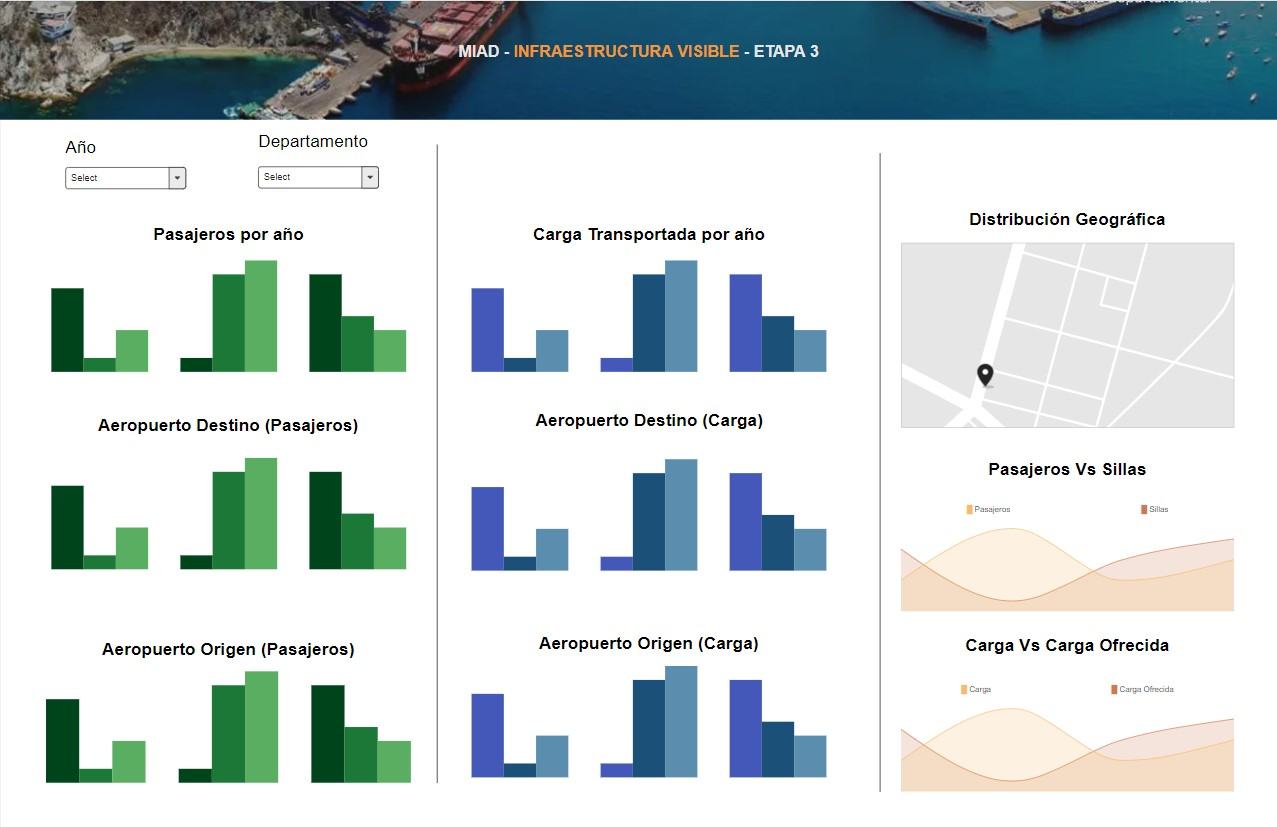

What the dashboard file says about the page in this screenshot:
{"tool":"powerbi","page":{"name":"Vuelos","canvas":[1280,720],"ordinal":0},"visuals":[{"type":"columnChart","title":"Pasajeros anuales","fields":{"Category":["fecha.year"],"Y":["Sum(fact_vuelo.pasajeros)"]},"box":[9.6,0,336.5,239],"z":0},{"type":"columnChart","title":"Carga anual transportada","fields":{"Category":["fecha.year"],"Y":["Sum(fact_vuelo.carga_bordo)"]},"box":[377.7,0,336.5,239],"z":1000},{"type":"columnChart","title":"Pasajeros anuales por destino","fields":{"Category":["fecha.year"],"Y":["Sum(fact_vuelo.pasajeros)"],"Series":["fact_vuelo.aeropuerto_destino_key"]},"box":[1.4,239,336.5,232.1],"z":2000},{"type":"columnChart","title":"Carga anual transportada por destino","fields":{"Category":["fecha.year"],"Y":["Sum(fact_vuelo.carga_bordo)"],"Series":["fact_vuelo.aeropuerto_destino_key"]},"box":[377.7,239,336.5,232.1],"z":3000},{"type":"columnChart","title":"Pasajeros anuales por origen","fields":{"Category":["fecha.year"],"Y":["Sum(fact_vuelo.pasajeros)"],"Series":["fact_vuelo.aeropuerto_origen_key"]},"box":[1.4,471.1,336.5,248.6],"z":4000},{"type":"columnChart","title":"Carga anual transportada por origen","fields":{"Category":["fecha.year"],"Series":["fact_vuelo.aeropuerto_origen_key"],"Y":["Sum(fact_vuelo.carga_bordo)"]},"box":[377.7,471.1,336.5,248.6],"z":5000},{"type":"esriVisual","title":"Ubicaciones y categorías","fields":{"Latitude":["aeropuerto.latitud"],"Longitude":["aeropuerto.longitud"],"Color":["aeropuerto.categoria"]},"box":[723.8,0,556.2,239],"z":6000},{"type":"areaChart","title":"Pasajeros y sillas anuales","fields":{"Category":["fecha.year"],"Y":["Sum(fact_vuelo.pasajeros)"],"Y2":["Sum(fact_vuelo.sillas)"]},"box":[724,239,556,232],"z":7000},{"type":"areaChart","title":"Carga a bordo y carga ofrecida anual","fields":{"Category":["fecha.year"],"Y":["Sum(fact_vuelo.carga_bordo)"],"Y2":["Sum(fact_vuelo.carga_ofrecida)"]},"box":[714.2,487.6,556.2,232.1],"z":8000}]}

Visuals, with their boxes on the page's 1280x720 design canvas (x1, y1, x2, y2). These are canvas units, not pixel positions in the 1277x827 screenshot, which may show the page scaled, cropped or inside an application window:
"Pasajeros anuales" columnChart: detection(10, 0, 346, 239)
"Carga anual transportada" columnChart: detection(378, 0, 714, 239)
"Pasajeros anuales por destino" columnChart: detection(1, 239, 338, 471)
"Carga anual transportada por destino" columnChart: detection(378, 239, 714, 471)
"Pasajeros anuales por origen" columnChart: detection(1, 471, 338, 720)
"Carga anual transportada por origen" columnChart: detection(378, 471, 714, 720)
"Ubicaciones y categorías" esriVisual: detection(724, 0, 1280, 239)
"Pasajeros y sillas anuales" areaChart: detection(724, 239, 1280, 471)
"Carga a bordo y carga ofrecida anual" areaChart: detection(714, 488, 1270, 720)
